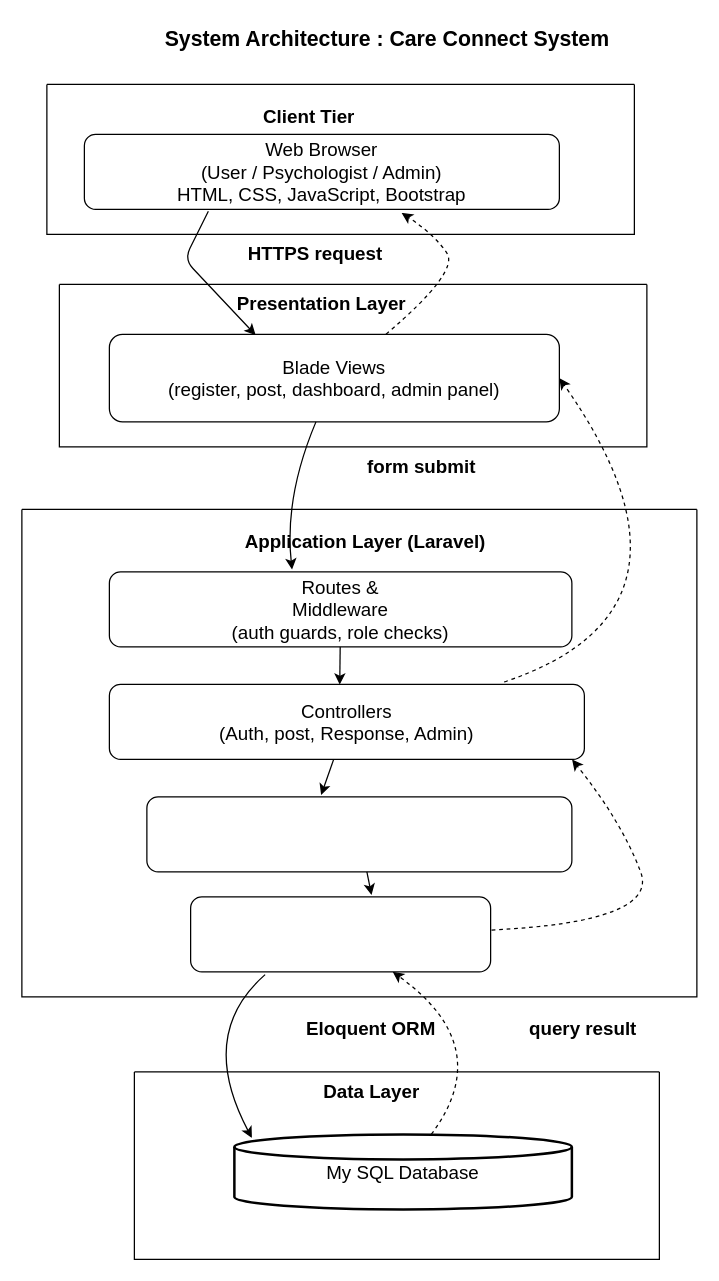
Image size: 719x1281. Some labels were removed from this diagram. The box of each missing label's shape, as (x1, y1, x2, y2) in pixels:
Eloquent Models (User, Psychologist, Post, Response, Report): (189, 896, 491, 972)
Services/ Business Logic (verification, anonymization, notification): (146, 796, 572, 872)
